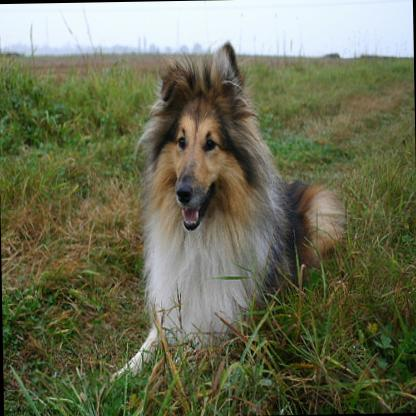Shetland_sheepdog: (102, 35, 354, 389)
